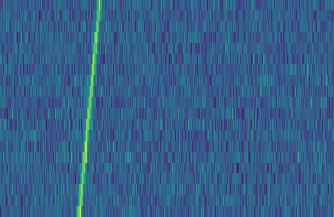signal: (73, 0, 103, 217)
